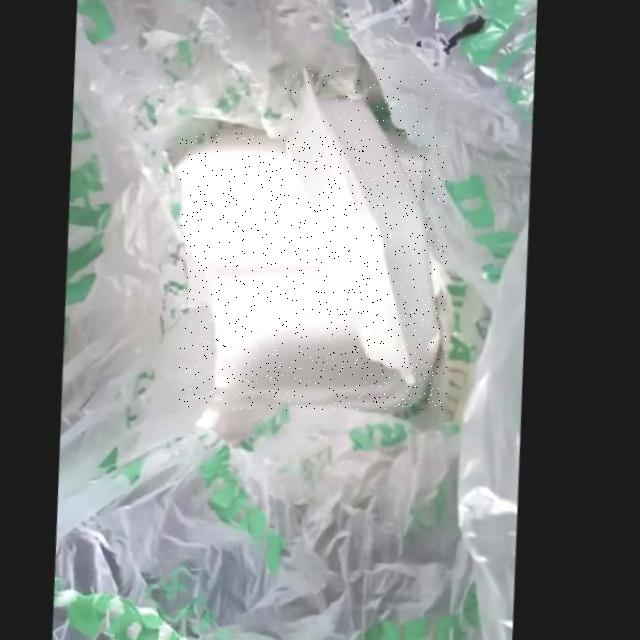styrofoam: (179, 133, 447, 411), (286, 67, 443, 382)
